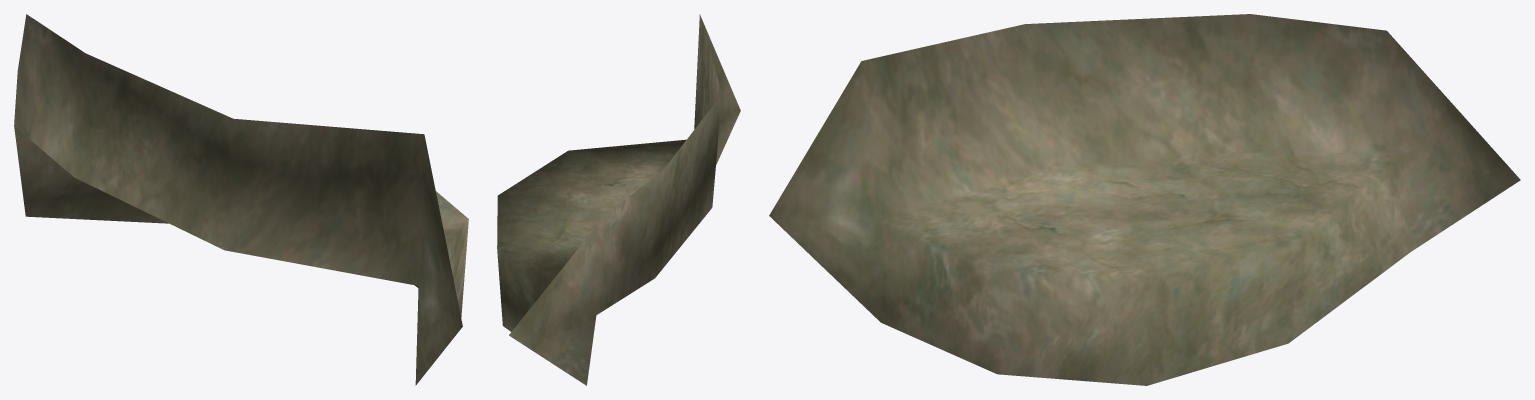
File: EKH_CAVERNS_PS_CA_PLATFORM94847.fbx
3 views of the same model, side by side, from view 1: azimuth 30°, elevation 25°; view 2: azimuth 150°, elevation 25°; view 3: azimuth 270°, elevation 25° (orthographic). The views are drawn at different scales.
Visible parts, largest first — view 1: EKH_CAVERNS_PS_CA_PLATFORM94847; view 2: EKH_CAVERNS_PS_CA_PLATFORM94847; view 3: EKH_CAVERNS_PS_CA_PLATFORM94847.
Part boxes in pixels (x1,y1,x2,y2): EKH_CAVERNS_PS_CA_PLATFORM94847: (14, 14, 468, 385); EKH_CAVERNS_PS_CA_PLATFORM94847: (497, 14, 740, 385); EKH_CAVERNS_PS_CA_PLATFORM94847: (769, 14, 1520, 385).
Size of the model in its own units: 13346 by 13010 by 32845.
1 material, 1 textured.
